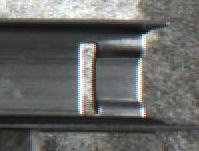press: (31, 14, 192, 135)
